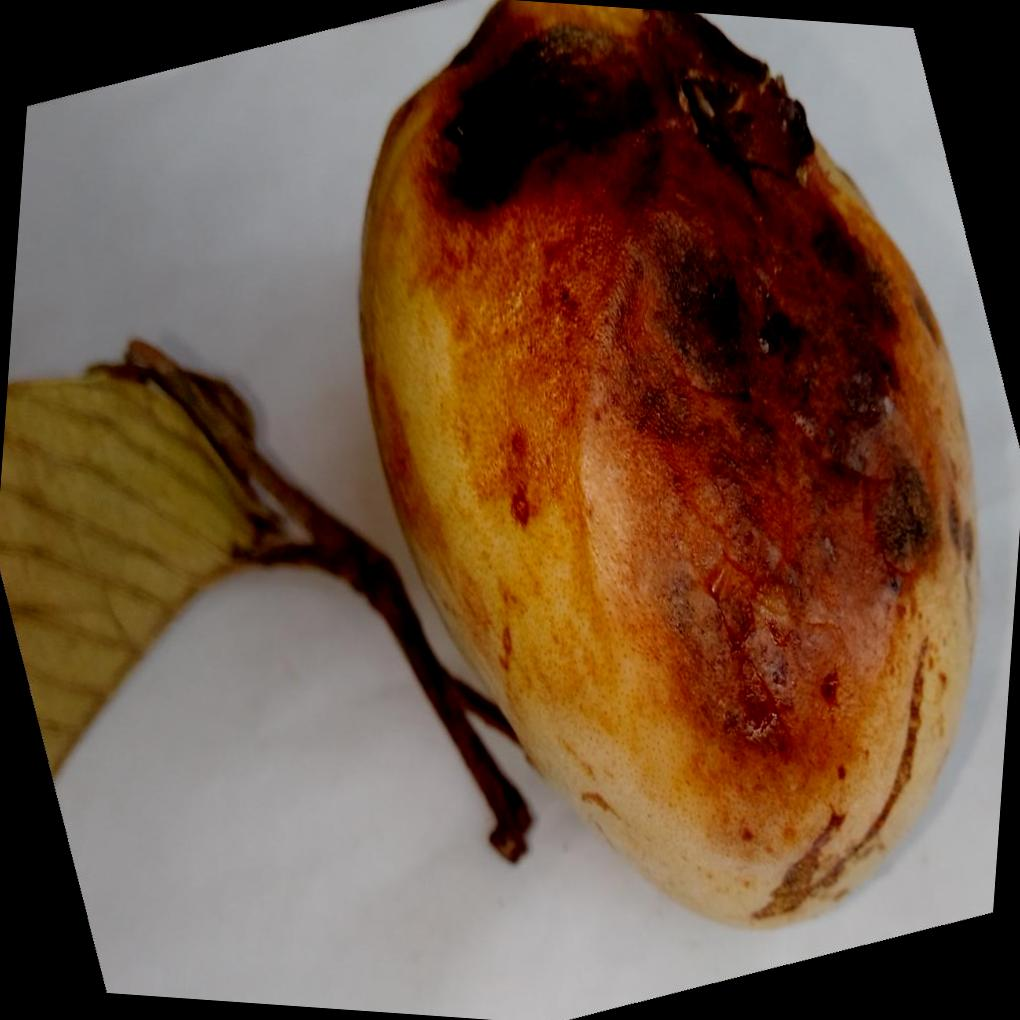FreshOrange: (358, 0, 984, 928)
